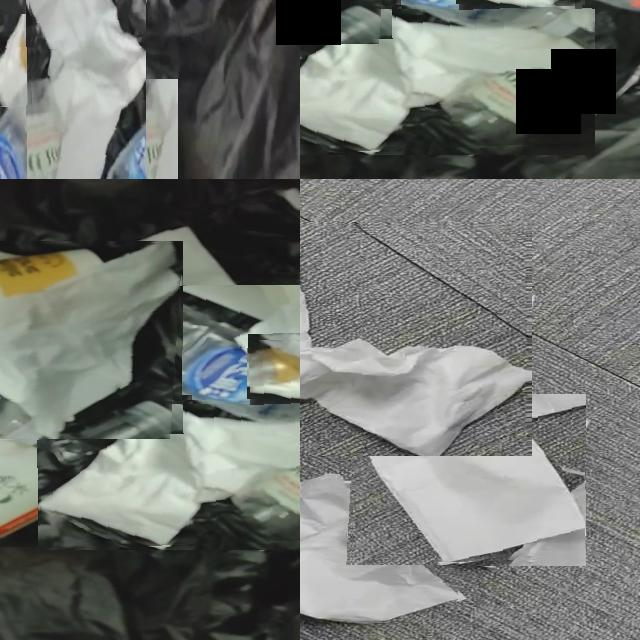bottle: (54, 286, 300, 427), (0, 401, 193, 537), (0, 52, 97, 179), (300, 6, 402, 98), (383, 0, 575, 41), (104, 79, 162, 179)
dixie_cup: (6, 249, 165, 314)
paper: (300, 275, 532, 456), (300, 9, 595, 151), (352, 394, 585, 564), (40, 404, 300, 546), (0, 242, 181, 439), (300, 474, 459, 622), (28, 0, 146, 179), (94, 228, 242, 325), (0, 14, 28, 106)
